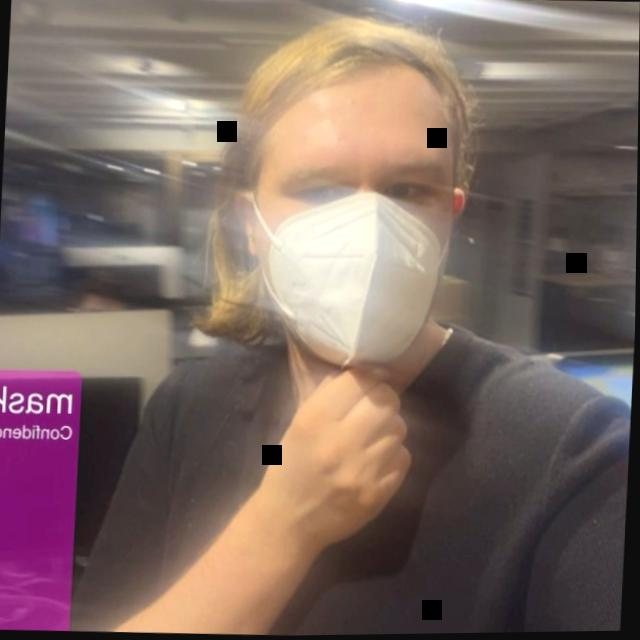Mask: (194, 9, 488, 379)
